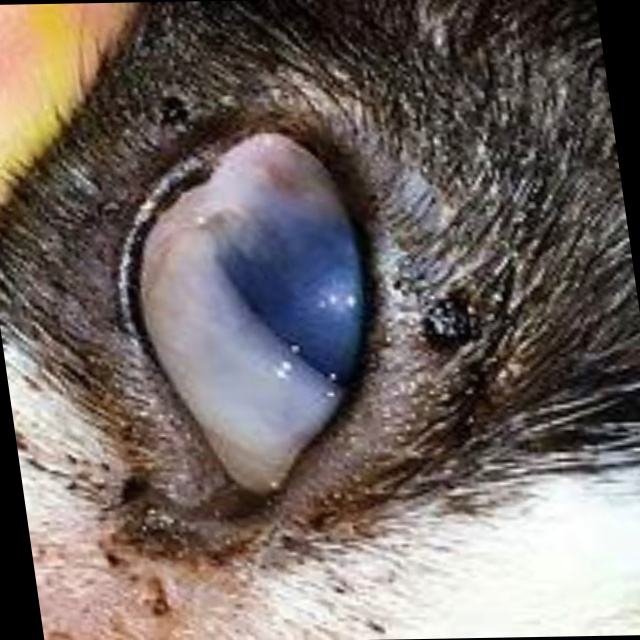eye_infection: (105, 119, 413, 507)
